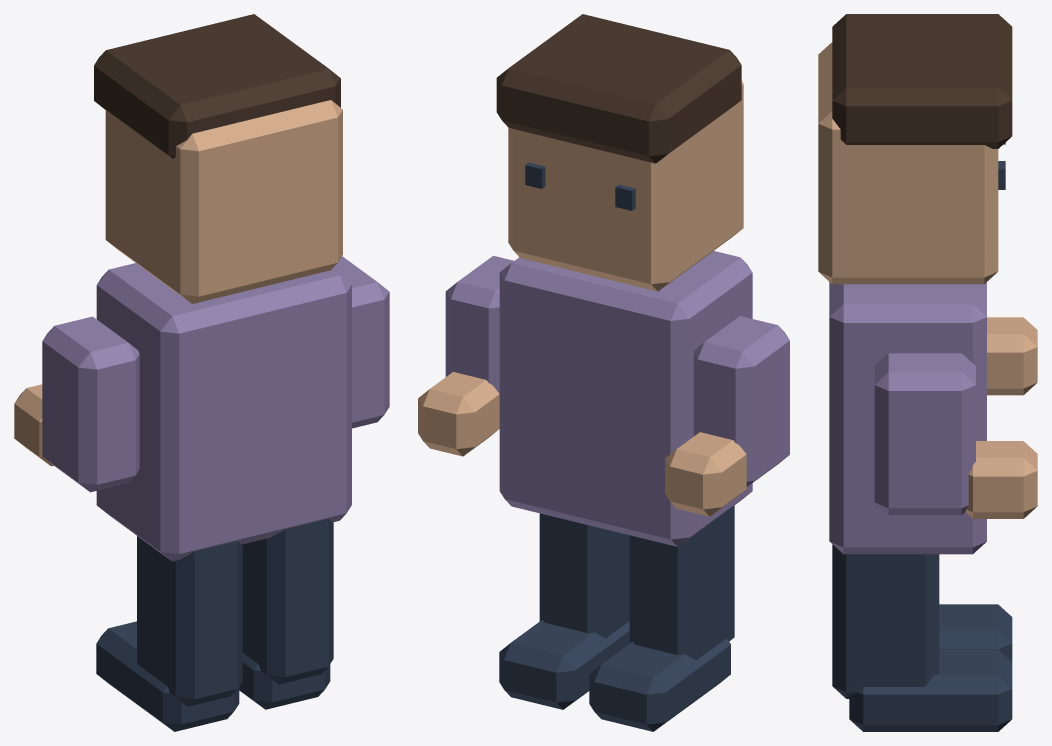
File: agent-security.glb
The picture shows the model from 3 angles, left to right: view 1: azimuth 30°, elevation 25°; view 2: azimuth 150°, elevation 25°; view 3: azimuth 270°, elevation 25°; orthographic projection. The views are drawn at different scales.
Parts seen in each view (by area): view 1: Torso.004, Head.004, Hair.004, Leg.008, Sleeve.008, Leg.009, Sleeve.009, Shoe.008, Shoe.009, Hand.008; view 2: Torso.004, Head.004, Hair.004, Leg.008, Sleeve.008, Leg.009, Shoe.008, Shoe.009, Sleeve.009, Hand.008, Hand.009; view 3: Head.004, Torso.004, Hair.004, Sleeve.009, Leg.009, Shoe.009, Hand.009, Hand.008, Shoe.008.
Boxes of the visible parts, x1=… form: Torso.004: x1=96, y1=263, x2=351, y2=561; Head.004: x1=105, y1=100, x2=342, y2=303; Hair.004: x1=94, y1=14, x2=340, y2=158; Leg.008: x1=137, y1=536, x2=242, y2=706; Sleeve.008: x1=42, y1=316, x2=139, y2=492; Leg.009: x1=242, y1=519, x2=333, y2=684; Sleeve.009: x1=332, y1=256, x2=389, y2=428; Shoe.008: x1=96, y1=621, x2=239, y2=731; Shoe.009: x1=239, y1=653, x2=330, y2=709; Hand.008: x1=14, y1=384, x2=53, y2=466; Torso.004: x1=499, y1=251, x2=752, y2=546; Head.004: x1=508, y1=81, x2=743, y2=291; Hair.004: x1=496, y1=14, x2=741, y2=163; Leg.008: x1=629, y1=505, x2=734, y2=660; Sleeve.008: x1=693, y1=316, x2=789, y2=486; Leg.009: x1=539, y1=513, x2=629, y2=637; Shoe.008: x1=589, y1=638, x2=730, y2=731; Shoe.009: x1=499, y1=619, x2=629, y2=709; Sleeve.009: x1=445, y1=255, x2=513, y2=393; Hand.008: x1=665, y1=432, x2=746, y2=516; Hand.009: x1=418, y1=372, x2=499, y2=456; Head.004: x1=818, y1=42, x2=998, y2=284; Torso.004: x1=829, y1=282, x2=986, y2=554; Hair.004: x1=832, y1=14, x2=1012, y2=148; Sleeve.009: x1=874, y1=353, x2=975, y2=514; Leg.009: x1=832, y1=544, x2=939, y2=698; Shoe.009: x1=849, y1=649, x2=1012, y2=731; Hand.009: x1=965, y1=441, x2=1037, y2=518; Hand.008: x1=987, y1=317, x2=1037, y2=395; Shoe.008: x1=939, y1=604, x2=1012, y2=661.
Bounding box in the file's own units: 0.65 × 1.27 × 0.39.
